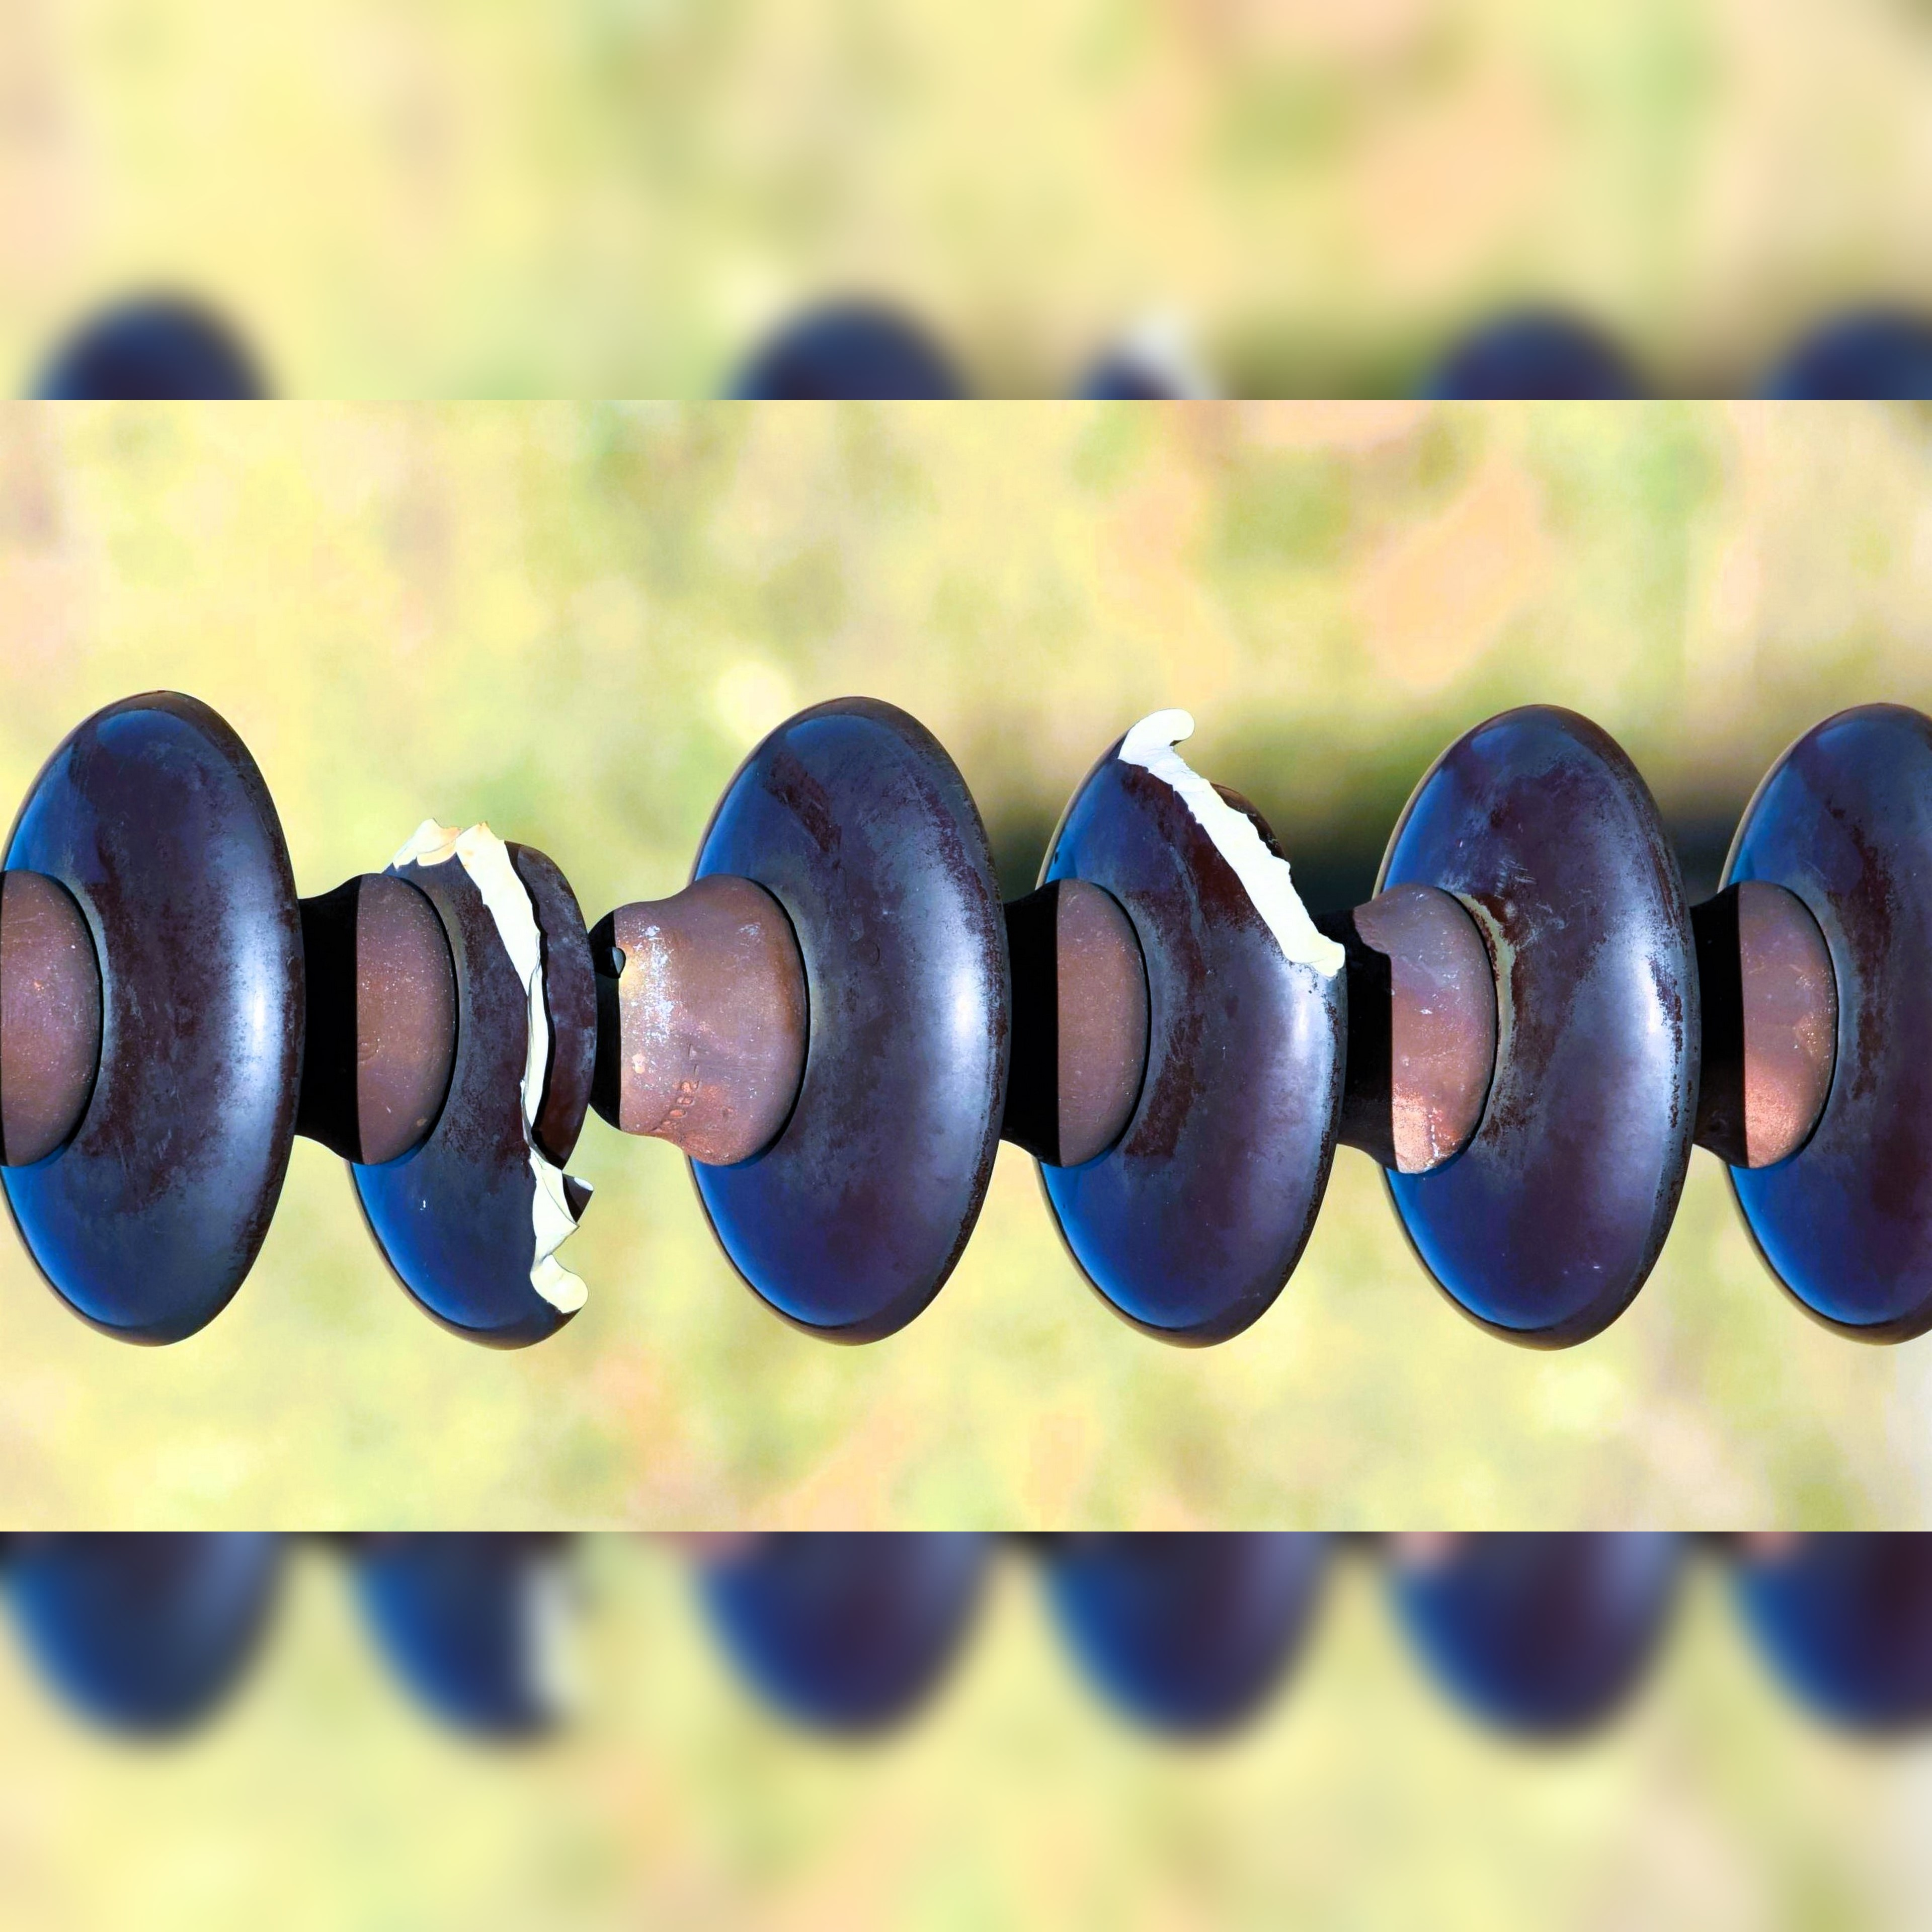insulator breakage: (1049, 676, 1357, 1353), (350, 766, 632, 1373)
